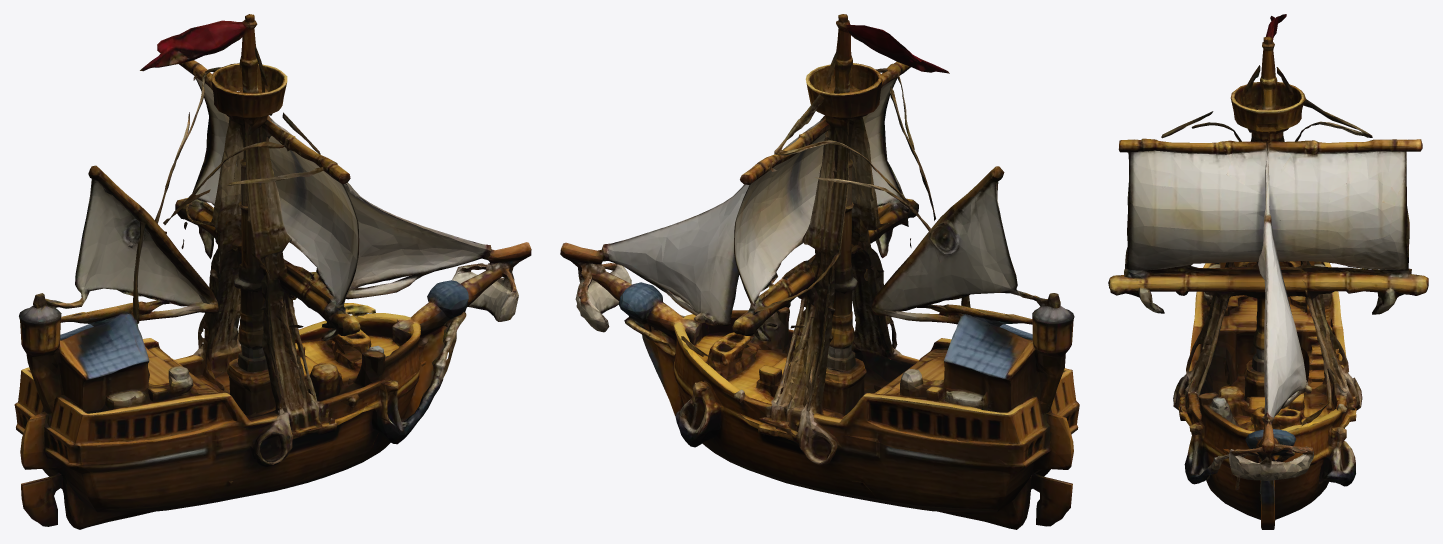
The model's file is Ship.glb.
3 views of the same model, side by side, from view 1: azimuth 30°, elevation 25°; view 2: azimuth 150°, elevation 25°; view 3: azimuth 270°, elevation 25° (orthographic). The views are drawn at different scales.
Parts seen in each view (by area): view 1: geometry_0; view 2: geometry_0; view 3: geometry_0.
Part boxes in pixels (bbox=[...]): geometry_0: bbox=[14, 14, 531, 529]; geometry_0: bbox=[560, 14, 1079, 529]; geometry_0: bbox=[1108, 14, 1428, 529].
Size of the model in its own units: 1 by 0.8901 by 0.583.
1 material, 1 textured.
